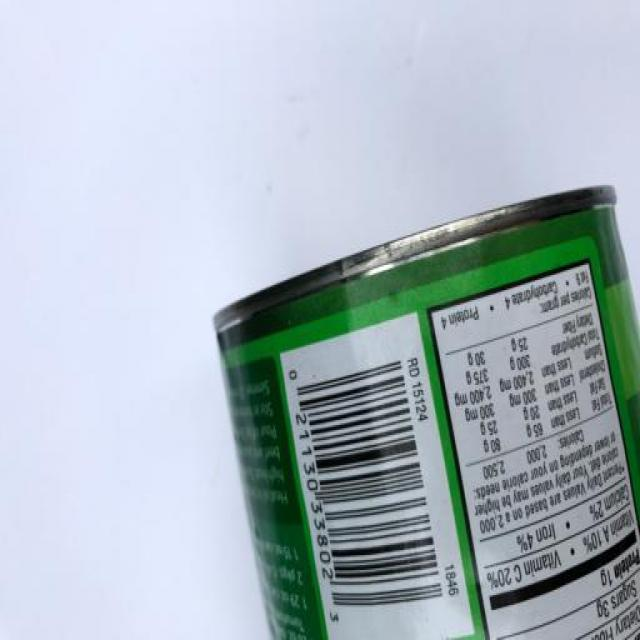metel: (187, 171, 640, 640)
